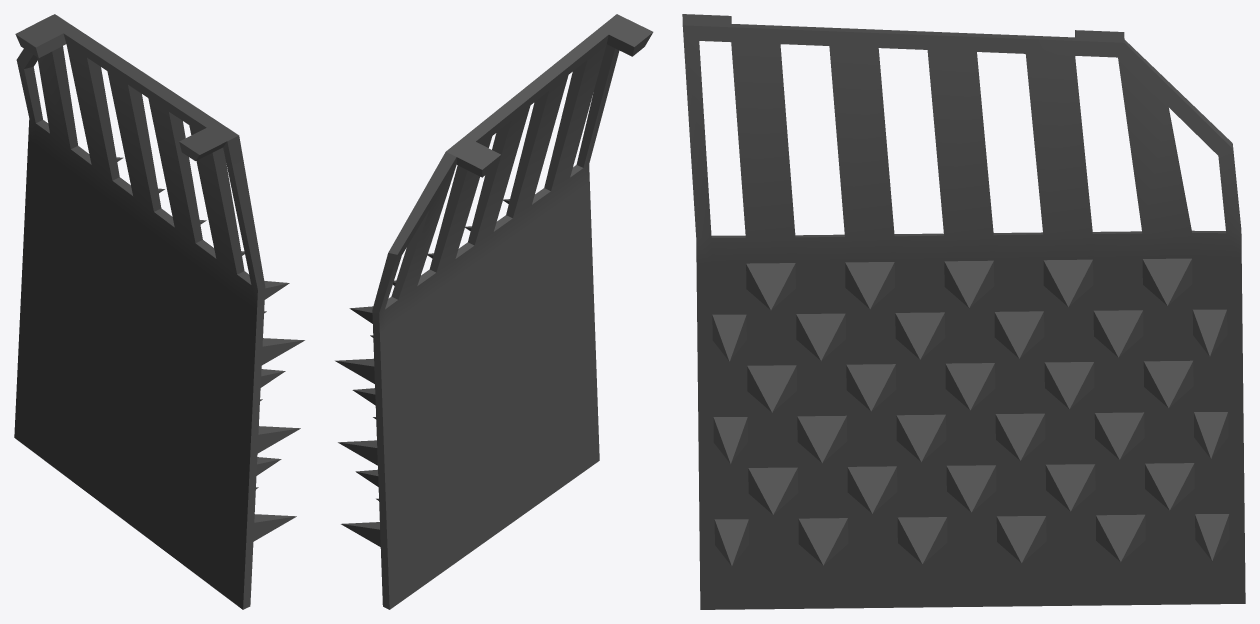
Rendered from door.fbx.
The picture shows the model from 3 angles, left to right: view 1: azimuth 30°, elevation 25°; view 2: azimuth 150°, elevation 25°; view 3: azimuth 270°, elevation 25°; orthographic projection. The views are drawn at different scales.
Visible parts, largest first — view 1: Cube.004; view 2: Cube.004; view 3: Cube.004.
Boxes of the visible parts, <box> form: Cube.004: <box>14,14,304,609</box>; Cube.004: <box>335,14,653,609</box>; Cube.004: <box>682,14,1245,609</box>.
Size of the model in its own units: 33.62 by 122 by 108.
1 material, 1 textured.
